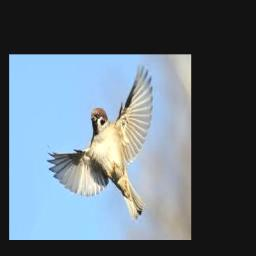Sparrow: (46, 64, 152, 220)
